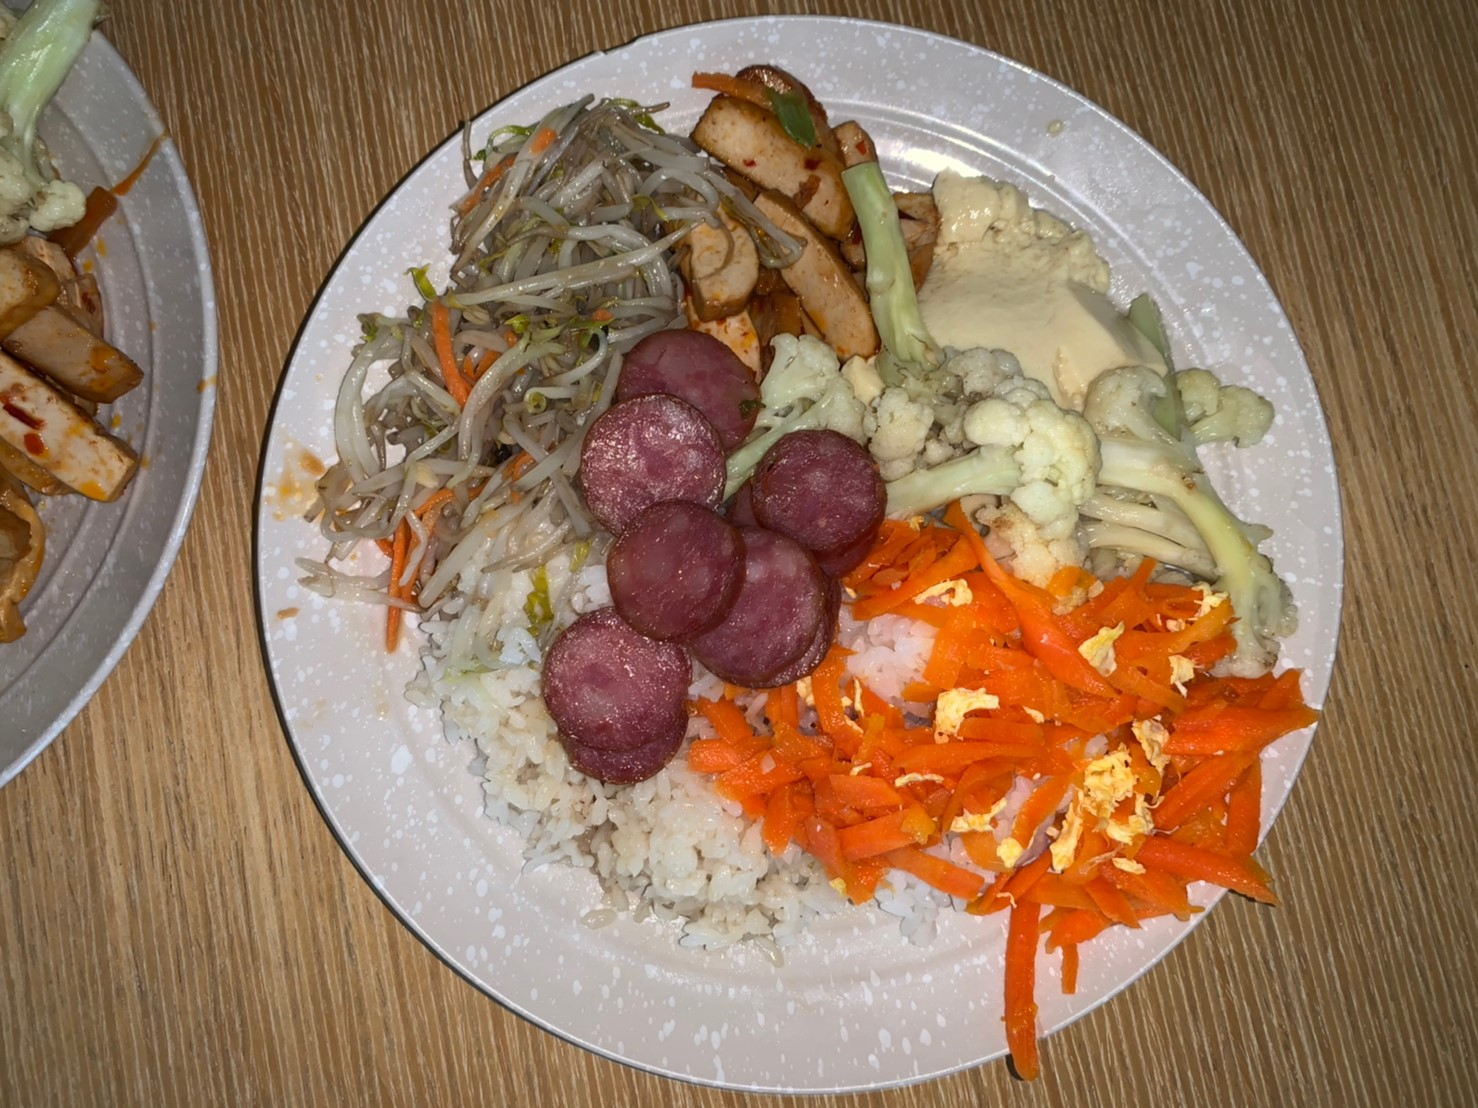carrot_eggs: (827, 519, 1281, 919)
chinese_sausage: (541, 325, 884, 779)
mung_bean_sprouts: (331, 98, 729, 556)
rice: (468, 763, 741, 968)
